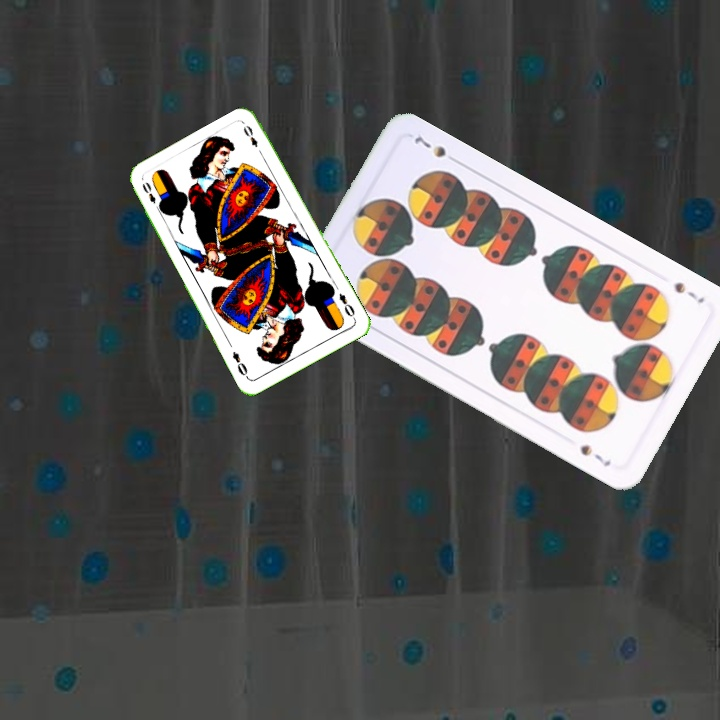EO: (138, 178, 164, 214), (335, 289, 358, 322)
S7: (670, 278, 707, 306)
